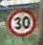limite 30: (6, 8, 35, 37)
